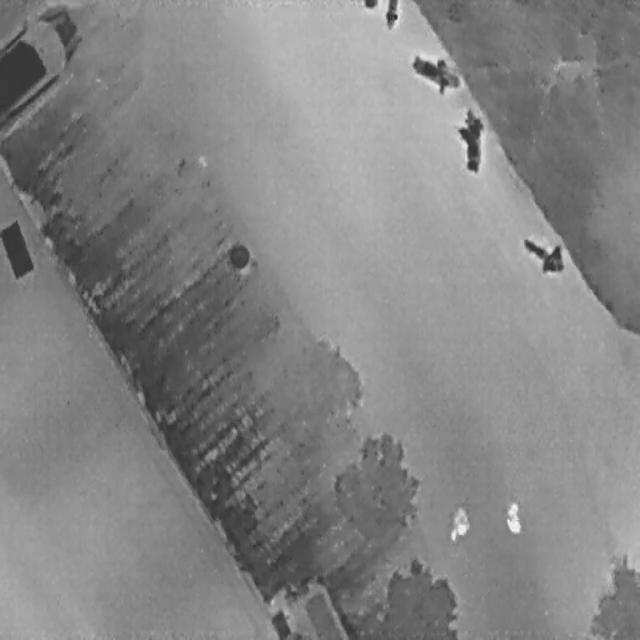Bicycle: (516, 221, 572, 281), (406, 45, 466, 100), (455, 104, 485, 174), (382, 0, 399, 30)
Car: (0, 4, 82, 141)
Person: (447, 502, 473, 544), (503, 499, 522, 535)
